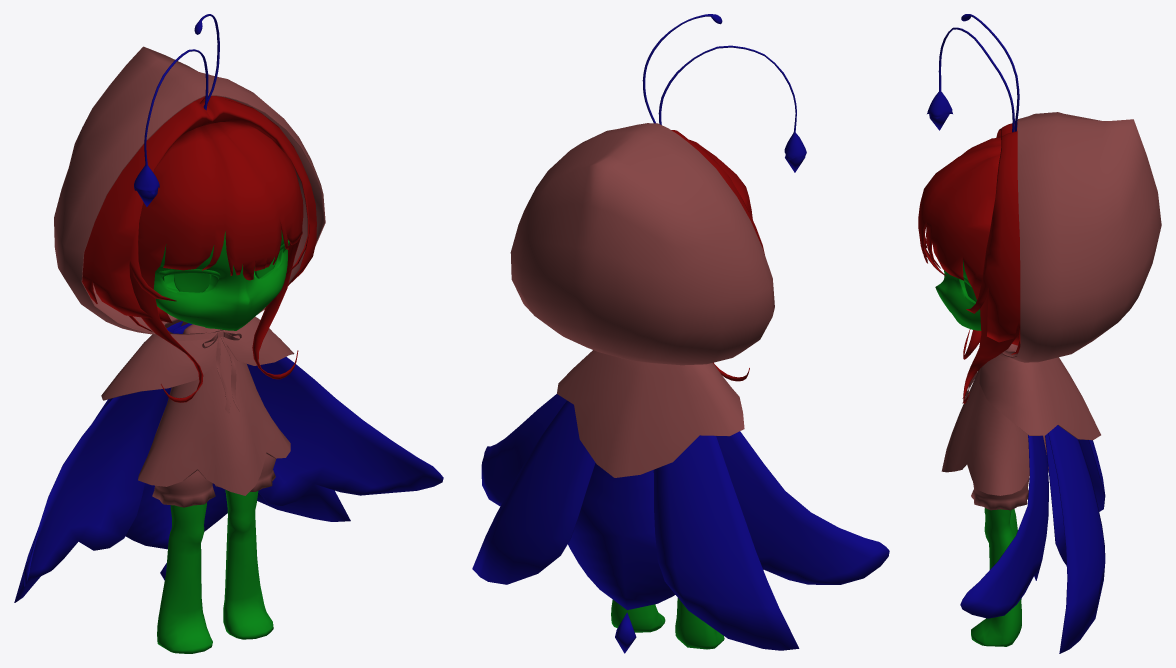
3 views of the same model, side by side, from view 1: azimuth 30°, elevation 25°; view 2: azimuth 150°, elevation 25°; view 3: azimuth 270°, elevation 25° (orthographic). The views are drawn at different scales.
Visible parts, largest first — view 1: 팔날개, 케이프, 앞머리, 몸, 옆머리, 다리, 얼굴, 망토, 날개, 바지, 더듬이, 리본 (+1 smaller); view 2: 케이프, 날개, 팔날개, 망토, 다리, 더듬이, 앞머리, 옆머리; view 3: 케이프, 앞머리, 날개, 몸, 옆머리, 팔날개, 다리, 더듬이 (×2), 얼굴, 망토, 바지.
Part boxes in pixels (bbox=[...]): 팔날개: bbox=[24, 327, 443, 586]; 케이프: bbox=[54, 46, 325, 400]; 앞머리: bbox=[129, 121, 303, 402]; 몸: bbox=[138, 324, 290, 495]; 옆머리: bbox=[82, 96, 316, 318]; 다리: bbox=[157, 489, 273, 653]; 얼굴: bbox=[153, 230, 288, 330]; 망토: bbox=[125, 323, 227, 580]; 날개: bbox=[14, 321, 350, 602]; 바지: bbox=[152, 454, 275, 507]; 더듬이: bbox=[134, 49, 208, 194]; 리본: bbox=[202, 331, 241, 414]; 케이프: bbox=[510, 123, 774, 477]; 날개: bbox=[472, 400, 799, 650]; 팔날개: bbox=[481, 394, 889, 584]; 망토: bbox=[568, 463, 675, 653]; 다리: bbox=[611, 598, 724, 649]; 더듬이: bbox=[658, 45, 806, 160]; 앞머리: bbox=[689, 139, 752, 381]; 옆머리: bbox=[671, 130, 764, 254]; 케이프: bbox=[979, 112, 1161, 440]; 앞머리: bbox=[918, 137, 1020, 403]; 날개: bbox=[1048, 425, 1105, 653]; 몸: bbox=[941, 344, 1048, 495]; 옆머리: bbox=[966, 122, 1020, 343]; 팔날개: bbox=[960, 435, 1048, 618]; 다리: bbox=[971, 508, 1021, 646]; 더듬이 (×2): bbox=[927, 14, 1019, 132]; 얼굴: bbox=[935, 260, 981, 330]; 망토: bbox=[1045, 433, 1066, 565]; 바지: bbox=[971, 477, 1029, 510].
Size of the model in its own units: 115 by 167 by 61.97.
